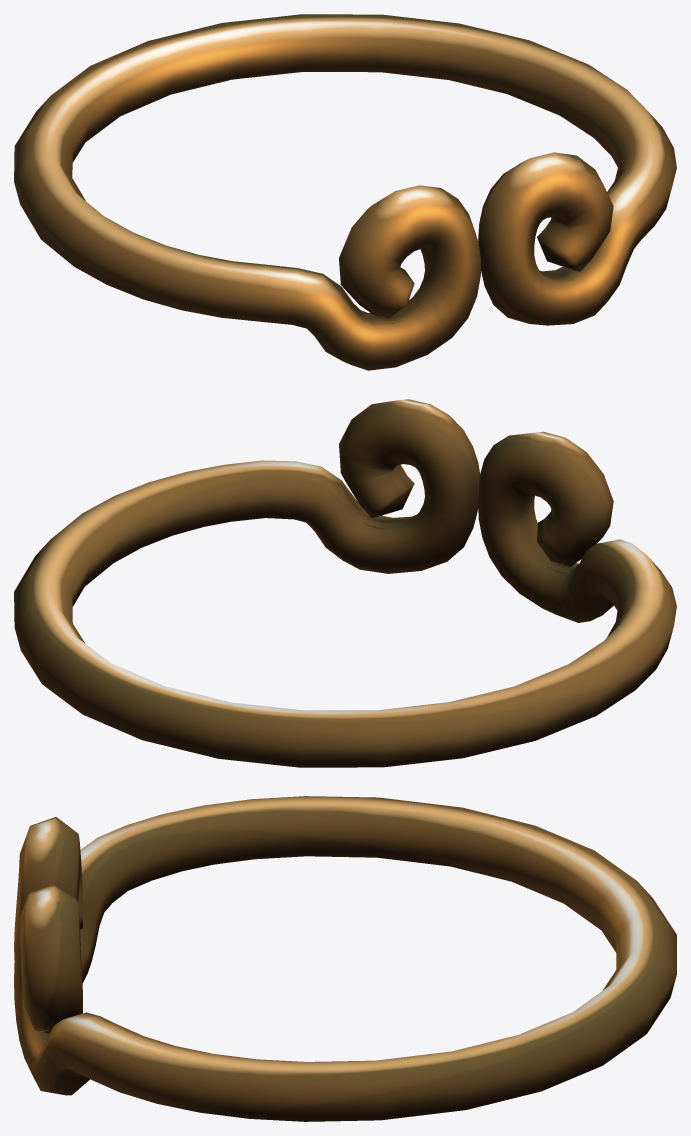
File: geo_CollectibleHeadband.fbx
3 renders of one model, top to bottom at view 1: azimuth 30°, elevation 25°; view 2: azimuth 150°, elevation 25°; view 3: azimuth 270°, elevation 25°, orthographic. The views are drawn at different scales.
Parts seen in each view (by area): view 1: geo_CollectibleHeadband; view 2: geo_CollectibleHeadband; view 3: geo_CollectibleHeadband.
Boxes of the visible parts, bbox=[...] form: geo_CollectibleHeadband: bbox=[14, 14, 676, 370]; geo_CollectibleHeadband: bbox=[14, 399, 676, 767]; geo_CollectibleHeadband: bbox=[14, 796, 676, 1121].
Size of the model in its own units: 93.56 by 27 by 89.8.
